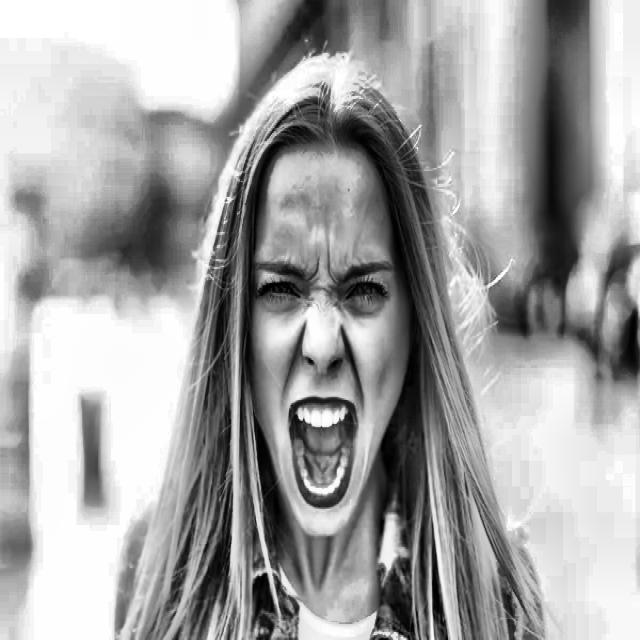angry: (204, 57, 452, 537)
